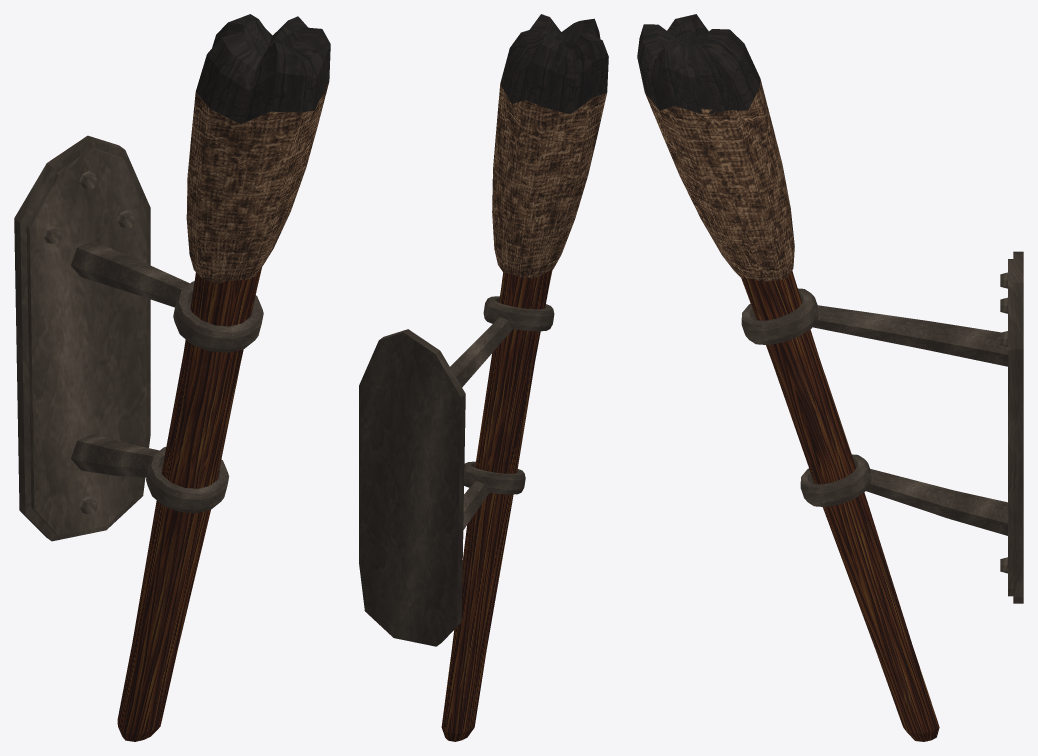
The model's file is Tocha-de-Parede.glb.
The picture shows the model from 3 angles, left to right: view 1: azimuth 30°, elevation 25°; view 2: azimuth 150°, elevation 25°; view 3: azimuth 270°, elevation 25°; orthographic projection. The views are drawn at different scales.
Visible parts, largest first — view 1: Placa de parede, Haste, Pano amarrado, Topo carbonizado, Braços de ferro, Aros de suporte, Rebites; view 2: Placa de parede, Haste, Pano amarrado, Topo carbonizado, Aros de suporte, Braços de ferro, Dobra do pano; view 3: Haste, Pano amarrado, Braços de ferro, Topo carbonizado, Placa de parede, Aros de suporte.
Part boxes in pixels (box(x1,y1,x2,y2)): Placa de parede: box(14, 135, 150, 541); Haste: box(117, 267, 261, 741); Pano amarrado: box(186, 82, 328, 283); Topo carbonizado: box(195, 14, 330, 124); Braços de ferro: box(71, 241, 189, 477); Aros de suporte: box(146, 281, 263, 513); Rebites: box(43, 171, 134, 514); Placa de parede: box(359, 329, 465, 646); Haste: box(441, 269, 552, 741); Pano amarrado: box(492, 84, 606, 278); Topo carbonizado: box(500, 14, 608, 114); Aros de suporte: box(464, 296, 554, 494); Braços de ferro: box(450, 317, 512, 529); Dobra do pano: box(505, 93, 580, 143); Haste: box(741, 271, 939, 741); Pano amarrado: box(645, 79, 794, 281); Braços de ferro: box(813, 305, 1007, 535); Topo carbonizado: box(637, 14, 760, 114); Placa de parede: box(1008, 251, 1023, 603); Aros de suporte: box(741, 288, 871, 506).
Bounding box in the file's own units: 0.124 × 0.7355 × 0.3642.
Materials: 4 (4 with a texture image).
